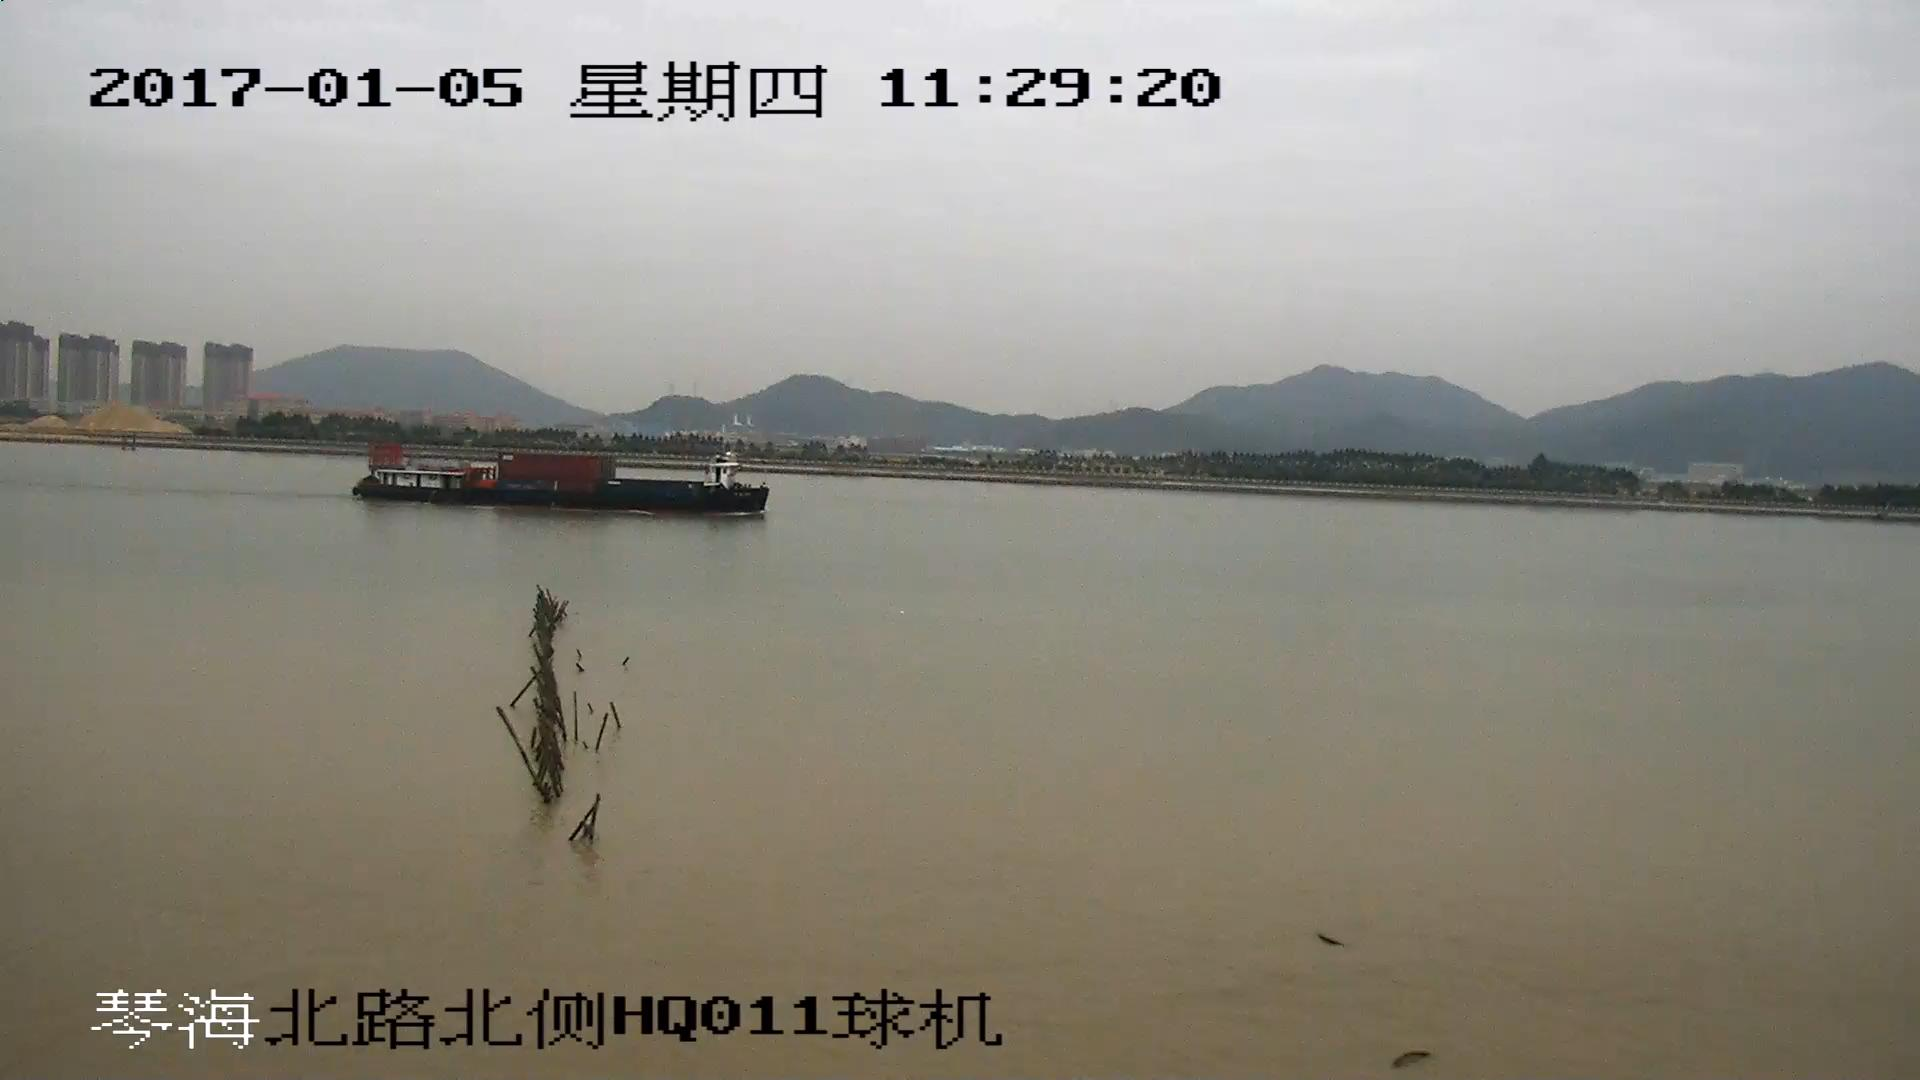container ship: (351, 440, 767, 516)
